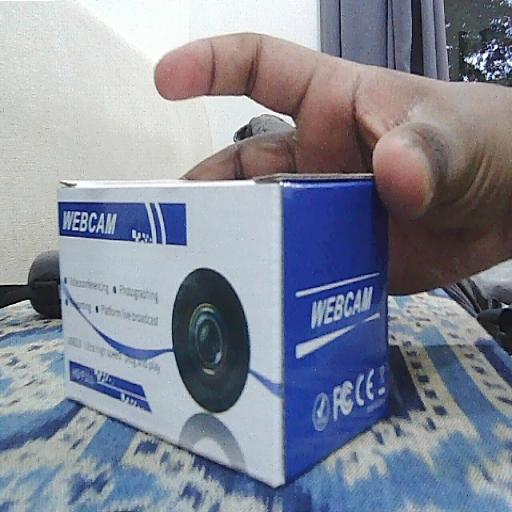webcam_box: (57, 171, 390, 486)
